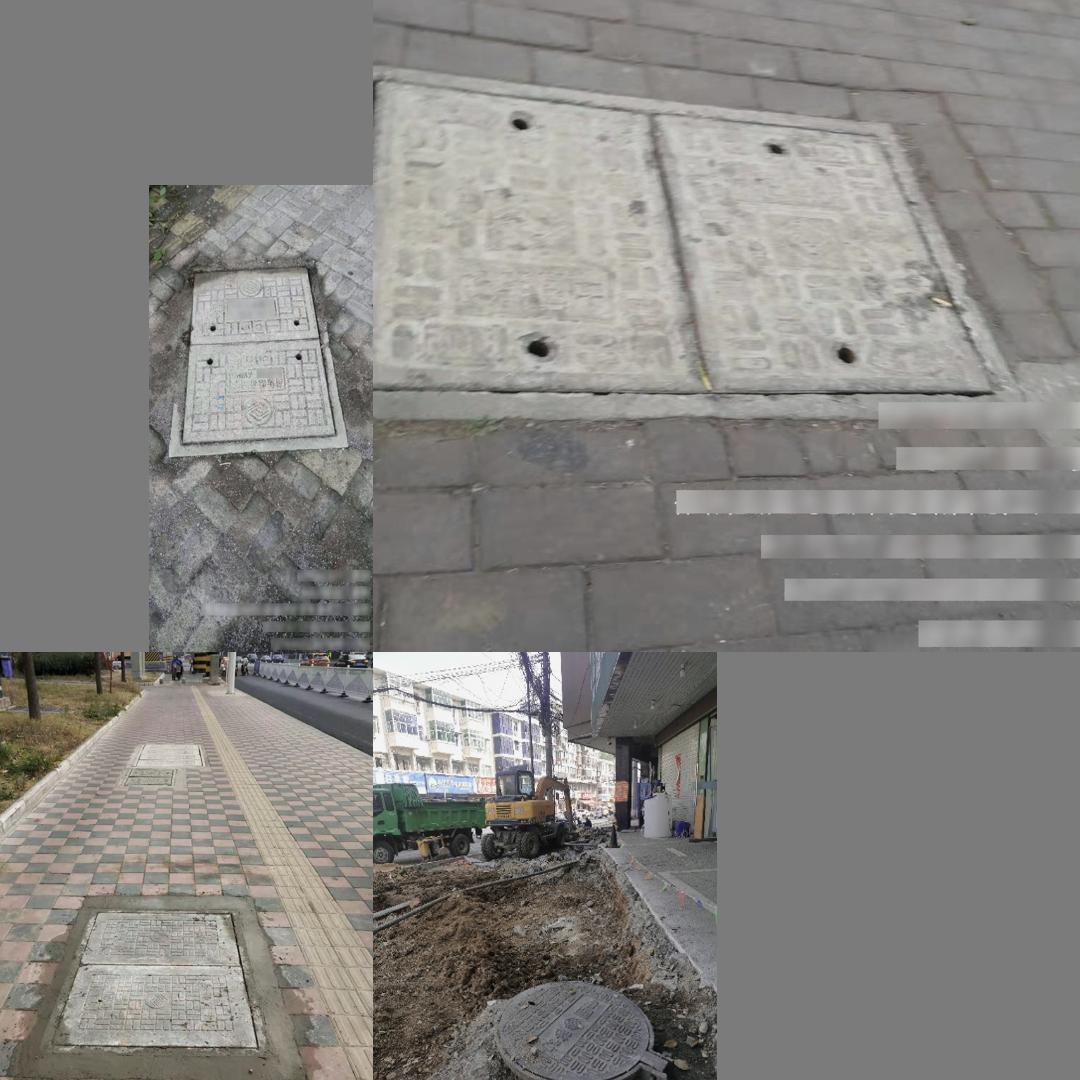good: (373, 63, 1021, 420), (169, 258, 349, 459), (38, 908, 274, 1055), (495, 979, 670, 1080)
